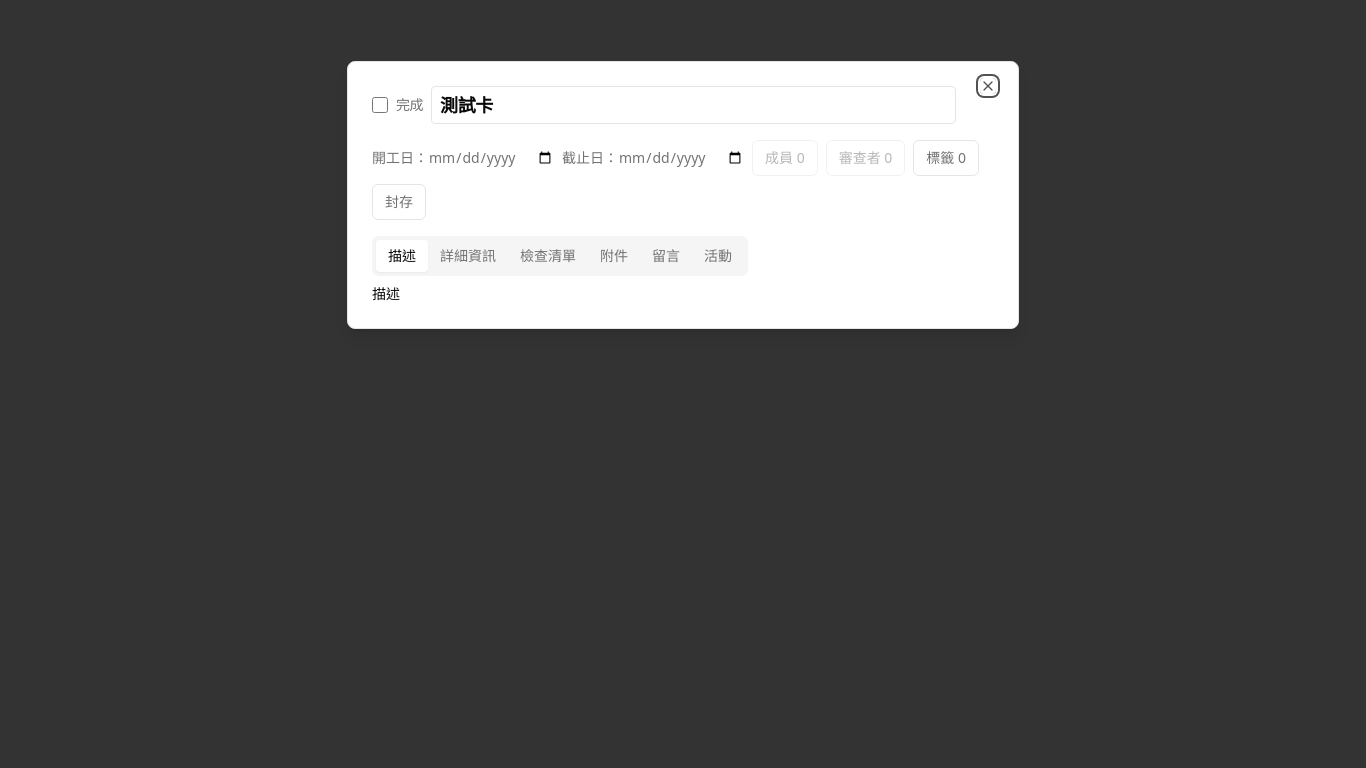
Test: 誤導空態（#16） › 成員查詢失敗時 member 型欄位顯示載入失敗與重試
Expected: the field showing "測試卡" is shown, [431,86,956,124]
Press the mouse on the tab "詳細資訊" at point(468, 256), box [428,240,508,272]
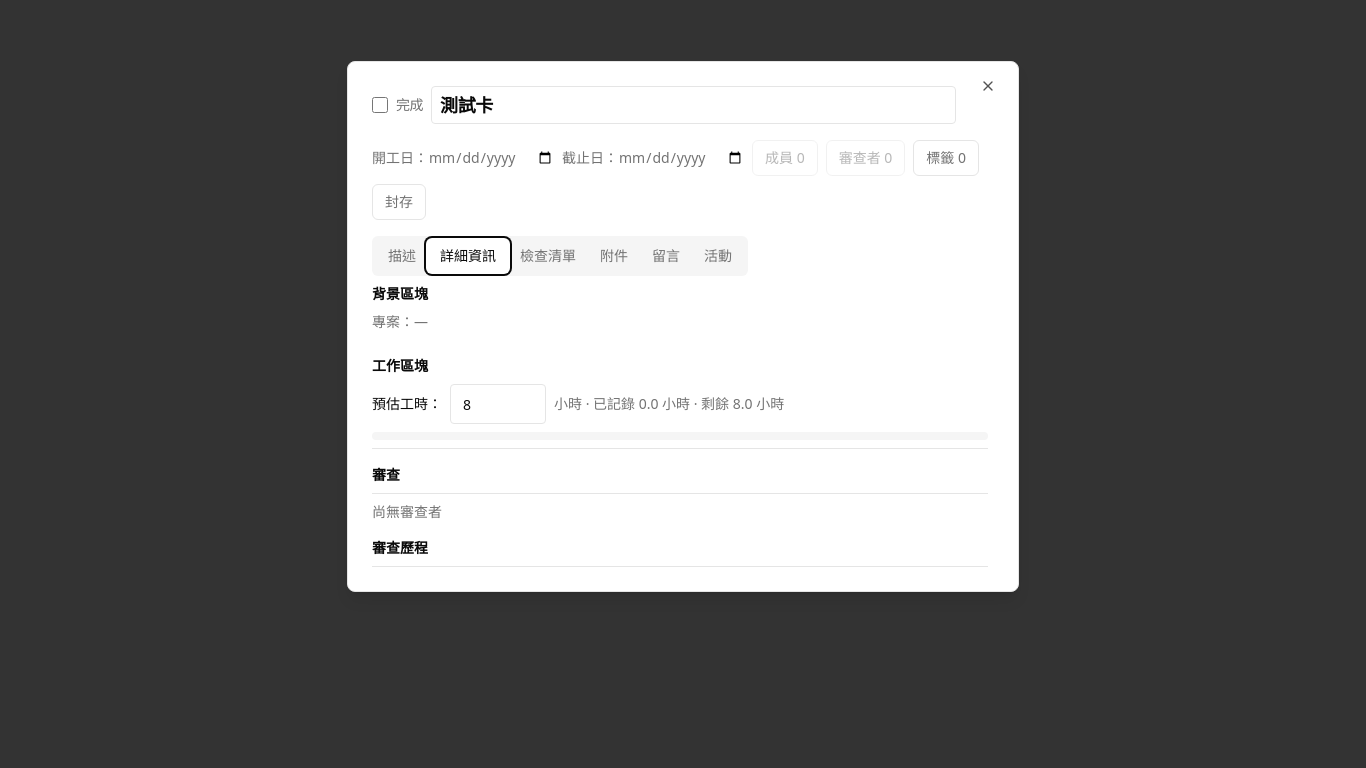
Click the tab "詳細資訊" at point(468, 256), box [428,240,508,272]
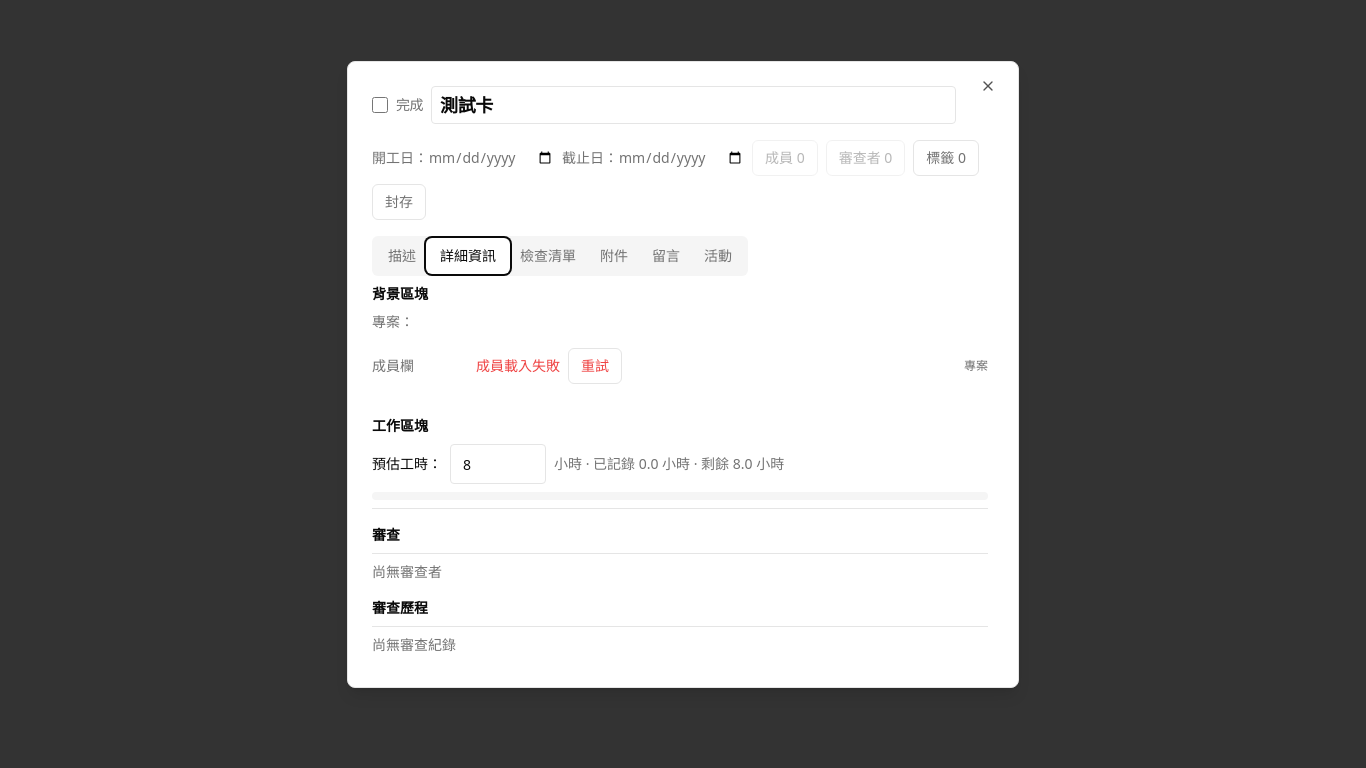
Now the text "成員載入失敗" is shown, box [476,356,560,375]
Now the button "重試" is shown, box [568,348,622,384]
